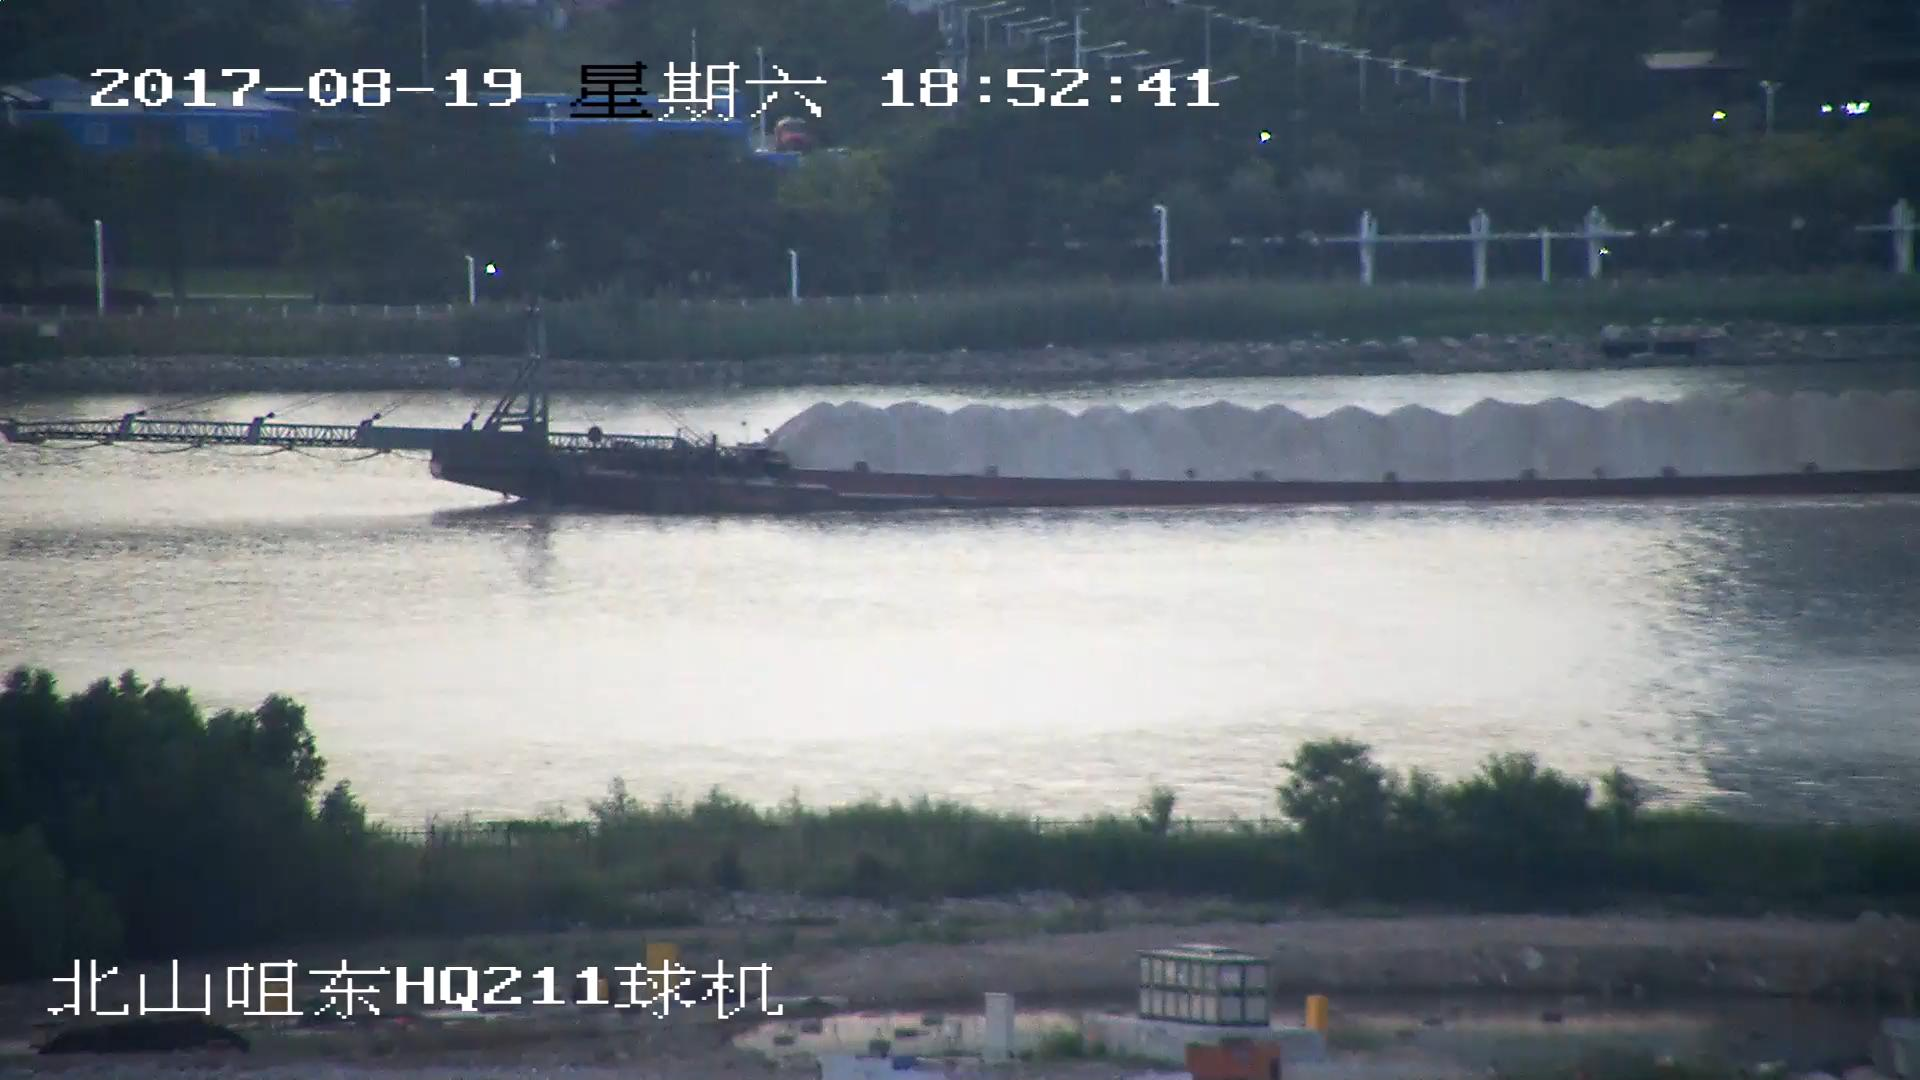ore carrier: (2, 310, 1920, 515)
